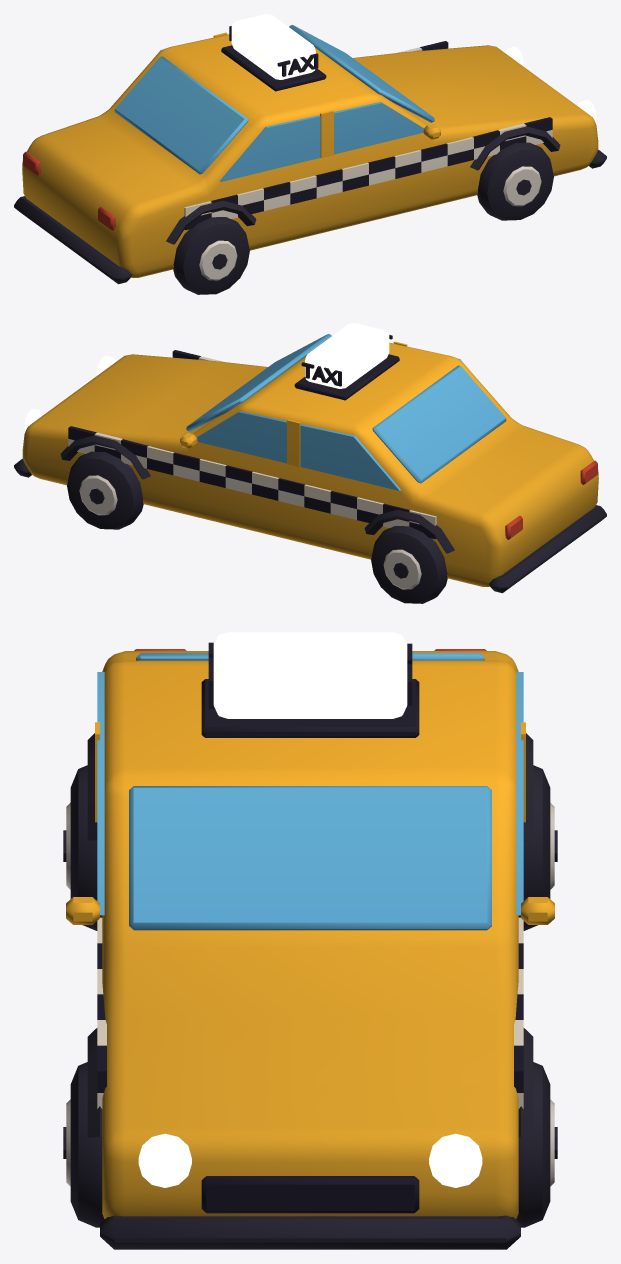
Rendered from taxi.glb.
3 views of the same model, one above another, from view 1: azimuth 30°, elevation 25°; view 2: azimuth 150°, elevation 25°; view 3: azimuth 270°, elevation 25° (orthographic). The views are drawn at different scales.
Parts seen in each view (by area): view 1: taxi; view 2: taxi; view 3: taxi.
Boxes of the visible parts, x1,y1,x2,y2 form: taxi: (14,14,606,294); taxi: (14,323,606,603); taxi: (63,632,557,1249).
Bounding box in the file's own units: 4.72 × 1.77 × 2.04.
